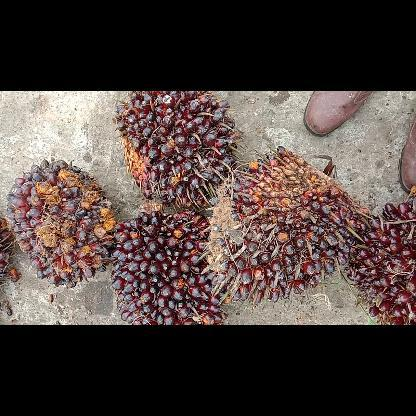Kurang masak: (200, 144, 372, 304), (0, 155, 122, 289), (110, 91, 242, 211), (108, 198, 232, 324), (343, 196, 415, 324)
